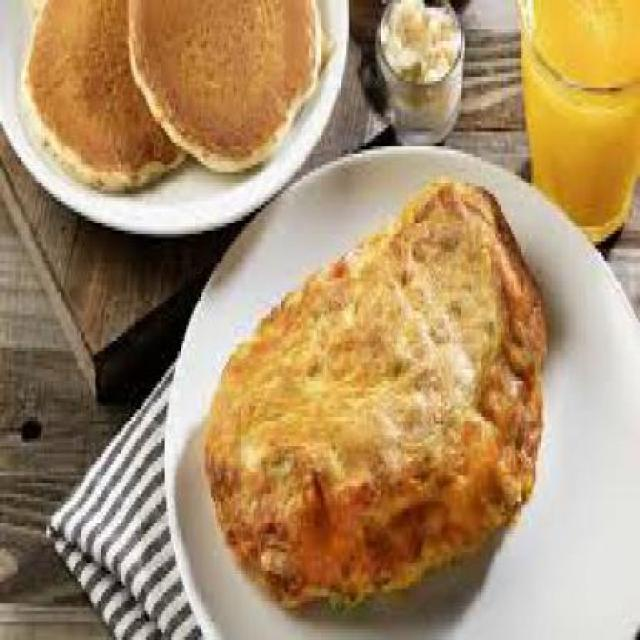omelette: (206, 175, 554, 614)
